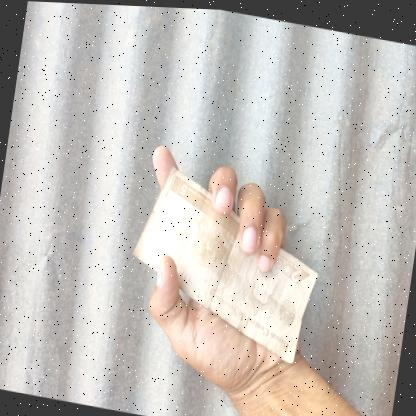five-back-vef: (122, 160, 328, 363)
